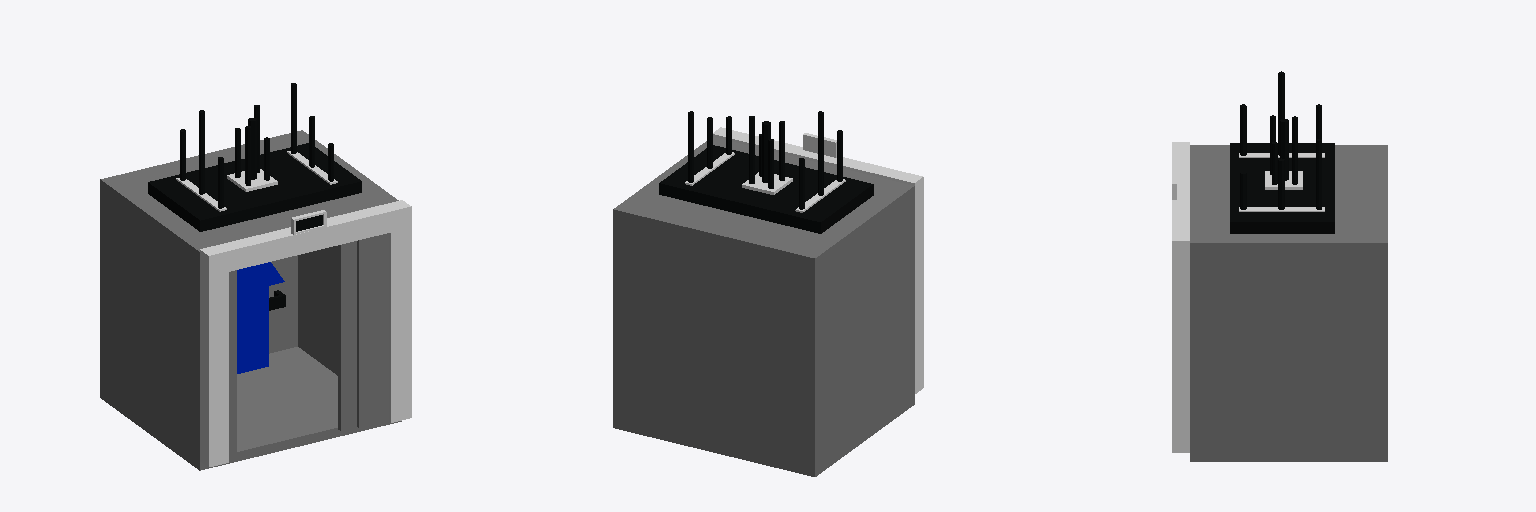
File: upElevator.obj
3 views of the same model, side by side, from view 1: azimuth 30°, elevation 25°; view 2: azimuth 150°, elevation 25°; view 3: azimuth 270°, elevation 25° (orthographic).
Visible parts, largest first — view 1: SM_Elevator, Arrow; view 2: SM_Elevator; view 3: SM_Elevator.
Boxes of the visible parts, box(x1,y1,x2,y2) form: SM_Elevator: box(100, 83, 411, 470); Arrow: box(237, 262, 284, 373); SM_Elevator: box(613, 111, 923, 476); SM_Elevator: box(1172, 71, 1387, 461).
Size of the model in its own units: 0.5011 by 0.7419 by 0.4635.